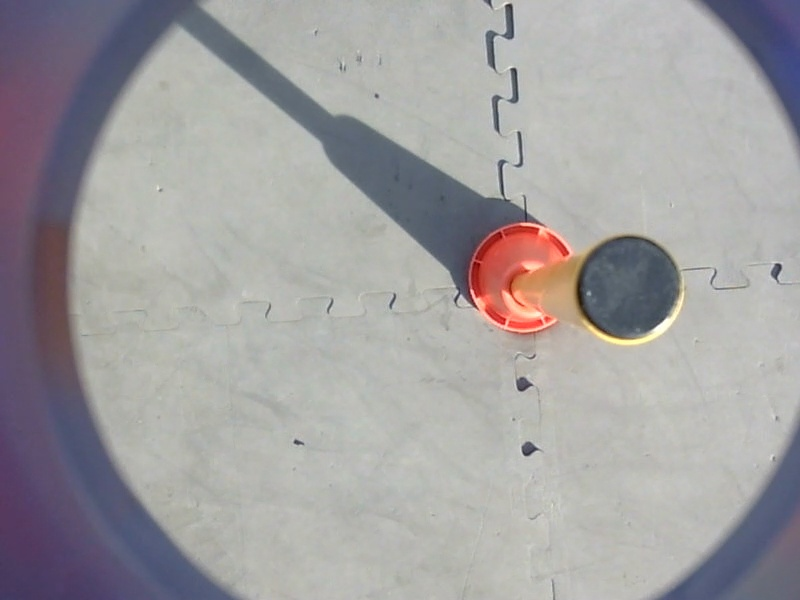tip: (570, 229, 691, 350)
